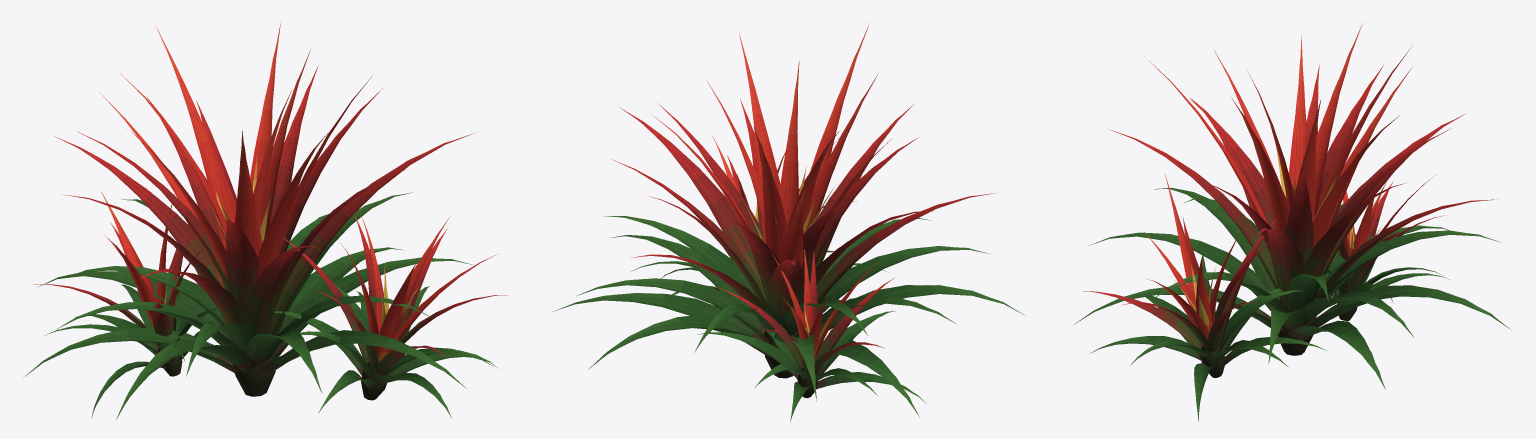
The picture shows the model from 3 angles, left to right: view 1: azimuth 30°, elevation 25°; view 2: azimuth 150°, elevation 25°; view 3: azimuth 270°, elevation 25°; orthographic projection. The views are drawn at different scales.
Parts seen in each view (by area): view 1: Mesh_BromeliadLeaves, Mesh_BromeliadBase; view 2: Mesh_BromeliadLeaves, Mesh_BromeliadBase; view 3: Mesh_BromeliadLeaves, Mesh_BromeliadBase.
Part boxes in pixels (x1,y1,x2,y2): Mesh_BromeliadLeaves: (23, 22, 506, 419); Mesh_BromeliadBase: (157, 332, 388, 400); Mesh_BromeliadLeaves: (553, 23, 1025, 422); Mesh_BromeliadBase: (764, 330, 818, 398); Mesh_BromeliadLeaves: (1074, 23, 1510, 421); Mesh_BromeliadBase: (1199, 288, 1357, 377).
Size of the model in its own units: 1 by 0.7545 by 1.04.
2 materials, 2 textured.
